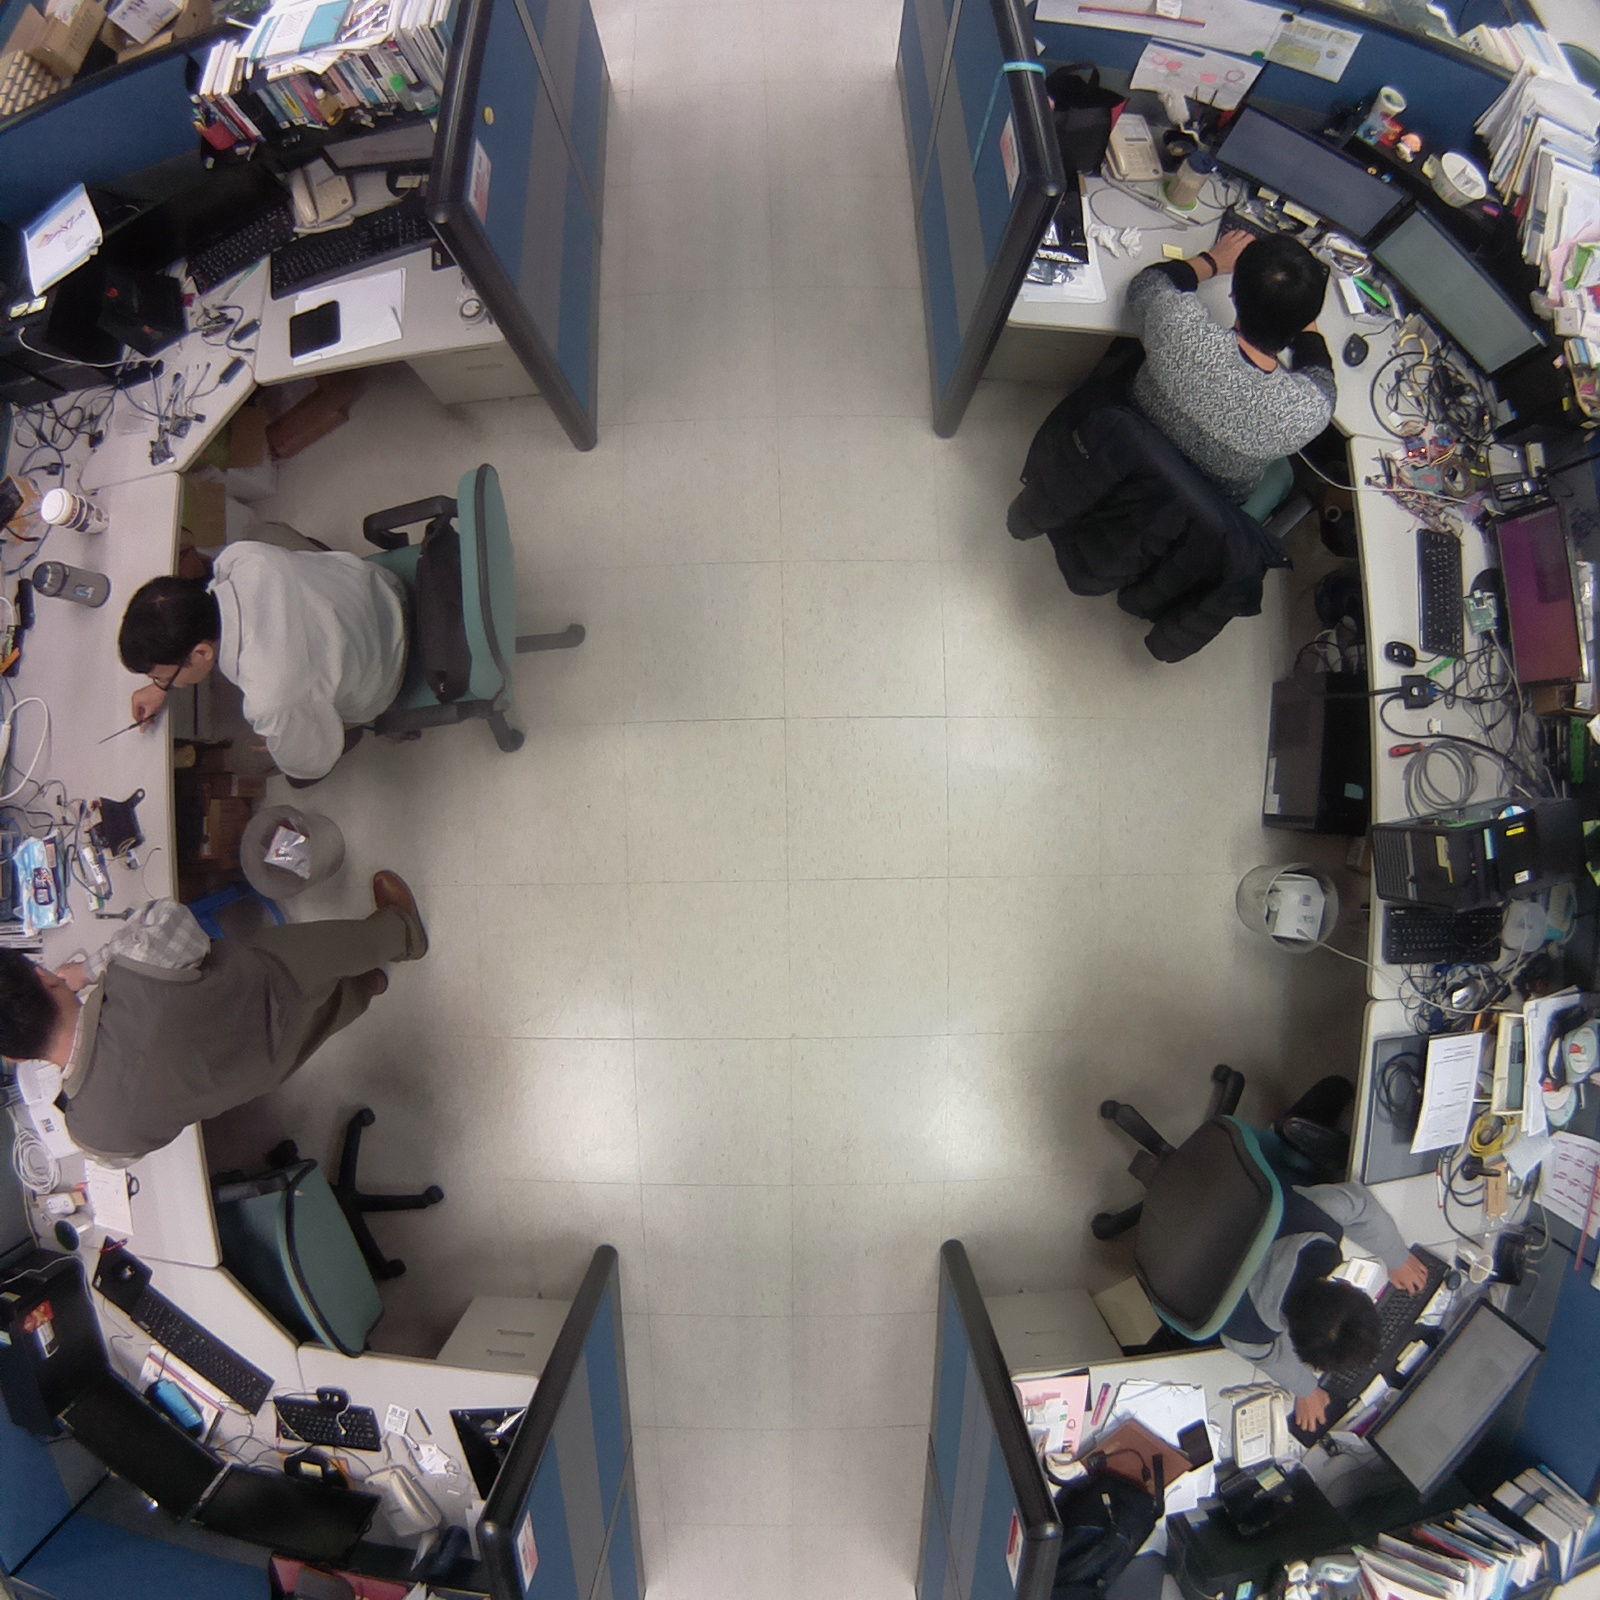chair: (204, 1086, 453, 1373)
head: (108, 572, 232, 687), (1223, 229, 1334, 344), (1283, 1268, 1395, 1380), (1, 936, 76, 1068)
sitting: (95, 440, 617, 794), (996, 212, 1345, 675), (1, 840, 445, 1177), (1068, 1045, 1435, 1432)
